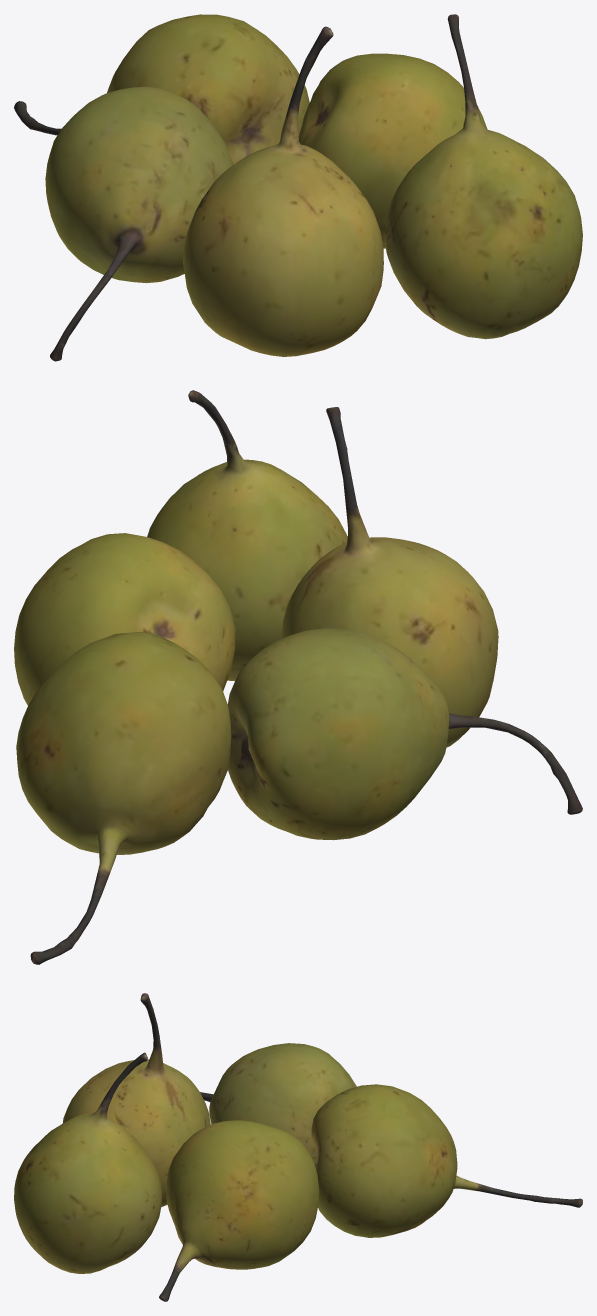
Rendered from food_pears_asian_01.0139121b.glb.
The picture shows the model from 3 angles, top to bottom: view 1: azimuth 30°, elevation 25°; view 2: azimuth 150°, elevation 25°; view 3: azimuth 270°, elevation 25°; orthographic projection. The views are drawn at different scales.
Visible parts, largest first — view 1: food_pears_asian_01_c, food_pears_asian_01_e, food_pears_asian_01_a, food_pears_asian_01_d, food_pears_asian_01_b; view 2: food_pears_asian_01_b, food_pears_asian_01_a, food_pears_asian_01_c, food_pears_asian_01_e, food_pears_asian_01_d; view 3: food_pears_asian_01_d, food_pears_asian_01_b, food_pears_asian_01_e, food_pears_asian_01_a, food_pears_asian_01_c.
Part boxes in pixels (x1,y1,x2,y2): food_pears_asian_01_c: (183, 26, 383, 356); food_pears_asian_01_e: (384, 14, 582, 339); food_pears_asian_01_a: (45, 86, 233, 361); food_pears_asian_01_d: (298, 53, 487, 248); food_pears_asian_01_b: (14, 14, 309, 164); food_pears_asian_01_b: (16, 631, 231, 964); food_pears_asian_01_a: (227, 628, 582, 840); food_pears_asian_01_c: (281, 407, 498, 747); food_pears_asian_01_e: (147, 390, 347, 681); food_pears_asian_01_d: (14, 533, 235, 705); food_pears_asian_01_d: (159, 1120, 319, 1301); food_pears_asian_01_b: (311, 1084, 582, 1237); food_pears_asian_01_e: (14, 1052, 161, 1273); food_pears_asian_01_a: (200, 1043, 356, 1167); food_pears_asian_01_c: (62, 993, 210, 1206).
Size of the model in its own units: 0.5441 by 0.3069 by 0.72.
1 material, 1 textured.
